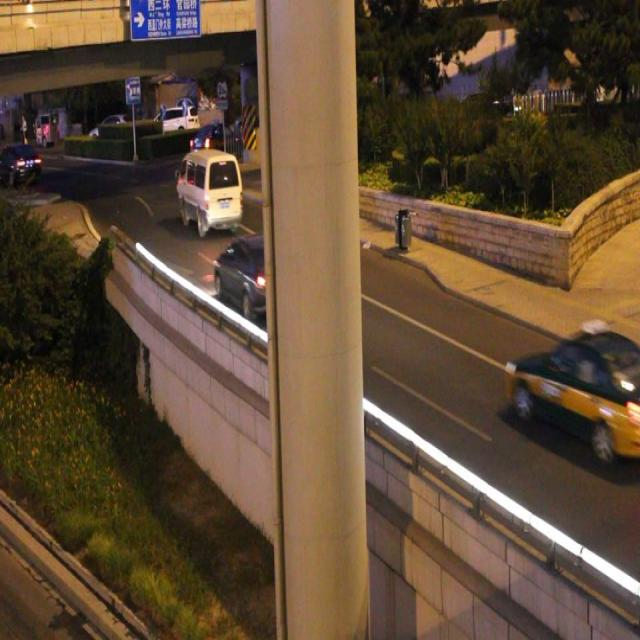car: (504, 318, 640, 461), (213, 232, 301, 325)
truck: (176, 150, 243, 232)
